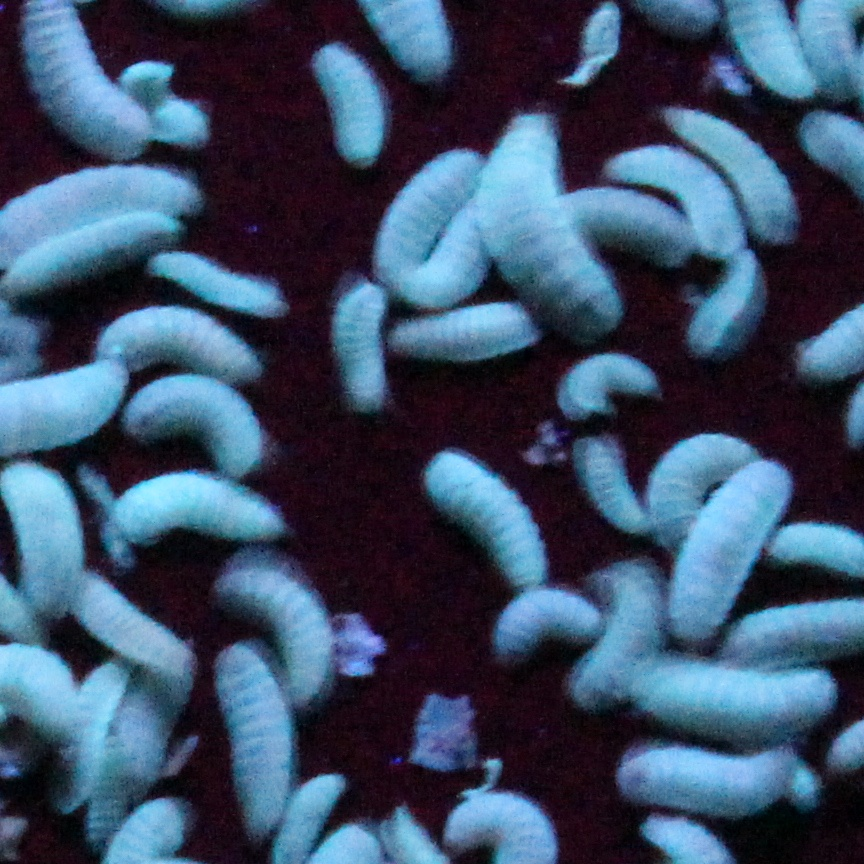larve: (507, 126, 625, 318), (671, 99, 800, 233), (681, 487, 773, 635), (115, 304, 261, 392), (142, 377, 266, 477), (239, 565, 339, 687), (17, 223, 186, 289), (456, 460, 542, 584), (649, 660, 815, 723), (125, 479, 281, 545), (225, 651, 284, 821), (651, 435, 739, 543), (90, 584, 203, 667), (656, 143, 754, 238), (54, 674, 123, 806), (107, 688, 168, 833), (588, 179, 700, 257), (373, 165, 456, 260), (586, 579, 651, 699), (622, 750, 783, 796), (17, 470, 73, 601), (171, 255, 286, 311), (284, 774, 352, 864), (328, 55, 381, 165), (342, 284, 393, 392), (407, 309, 532, 348), (700, 257, 756, 340), (495, 599, 590, 645), (429, 221, 481, 299), (571, 360, 659, 406), (595, 445, 637, 526)
